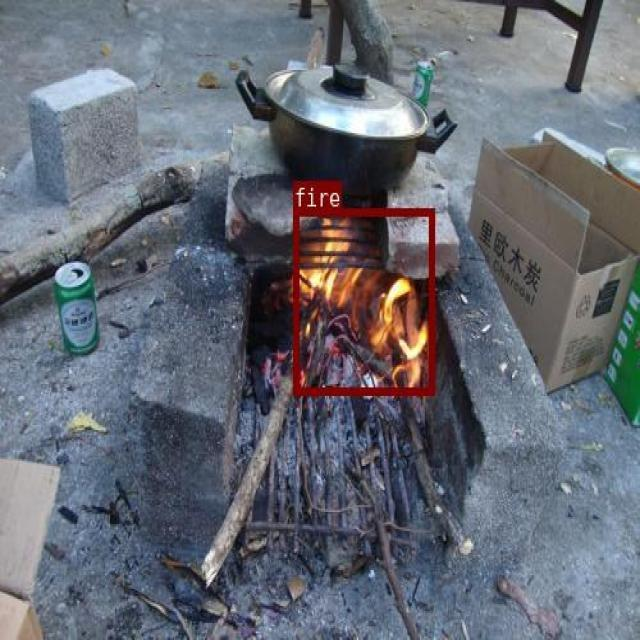fire: (293, 207, 434, 394)
